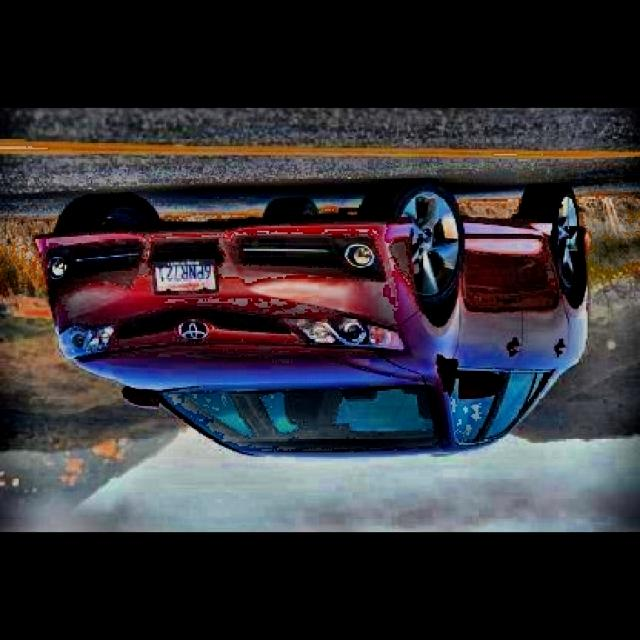maroon: (29, 191, 597, 452)
